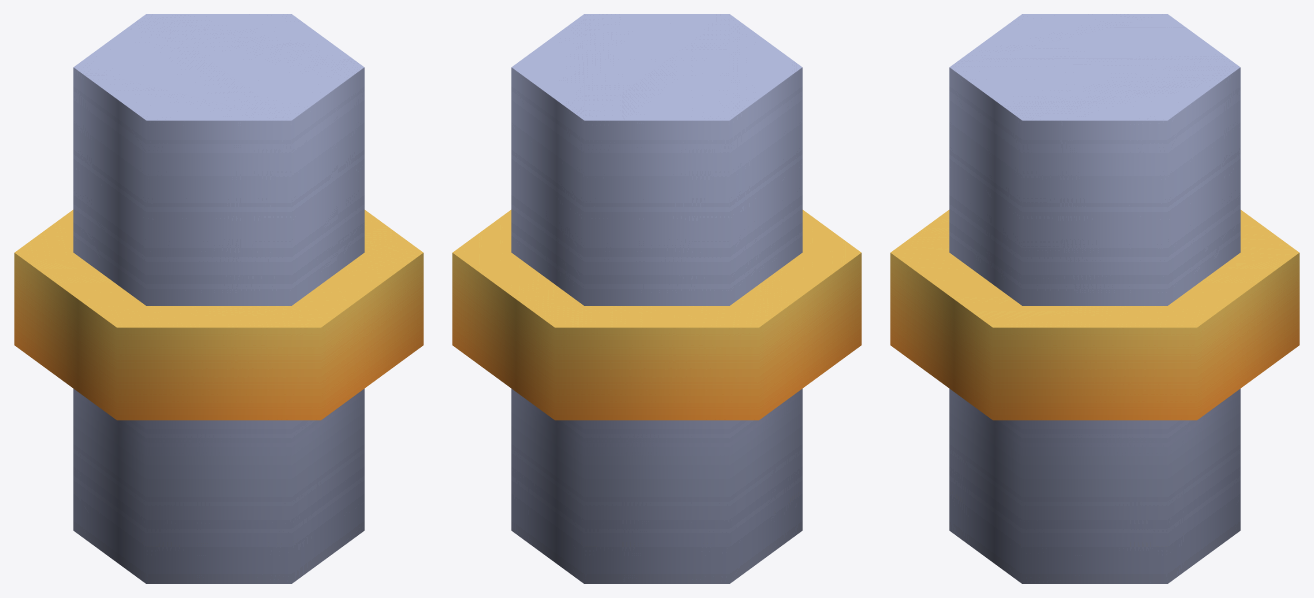
Rendered from pipe-ring-colored.glb.
3 renders of one model, left to right at view 1: azimuth 30°, elevation 25°; view 2: azimuth 150°, elevation 25°; view 3: azimuth 270°, elevation 25°, orthographic.
Visible parts, largest first — view 1: pipe-ring-colored; view 2: pipe-ring-colored; view 3: pipe-ring-colored.
Part boxes in pixels (<box>): pipe-ring-colored: <box>14,14,423,583</box>; pipe-ring-colored: <box>452,14,861,583</box>; pipe-ring-colored: <box>890,14,1299,583</box>.
Size of the model in its own units: 0.3464 by 0.5 by 0.4.
Materials: 1 (1 with a texture image).
